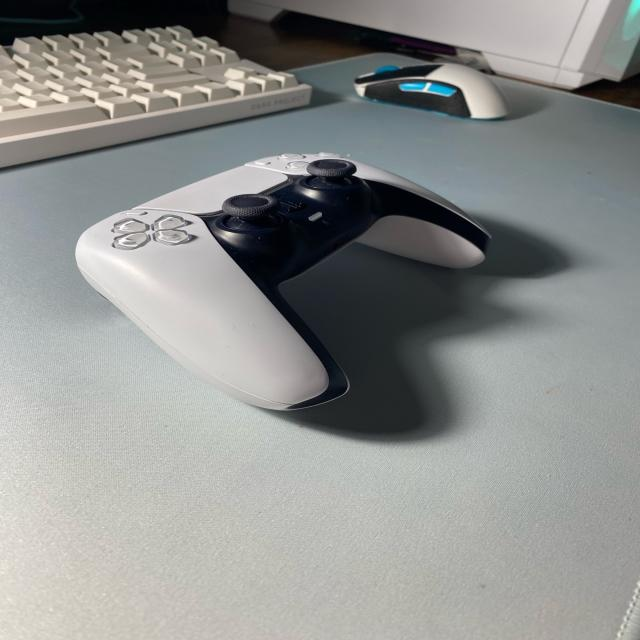dualsensePhoto: (75, 152, 490, 410), (202, 160, 488, 400), (135, 166, 288, 215), (247, 152, 340, 175), (222, 194, 280, 219), (152, 215, 190, 245), (113, 219, 148, 249), (307, 159, 357, 179), (113, 232, 150, 250), (308, 211, 323, 221), (125, 210, 147, 215)
